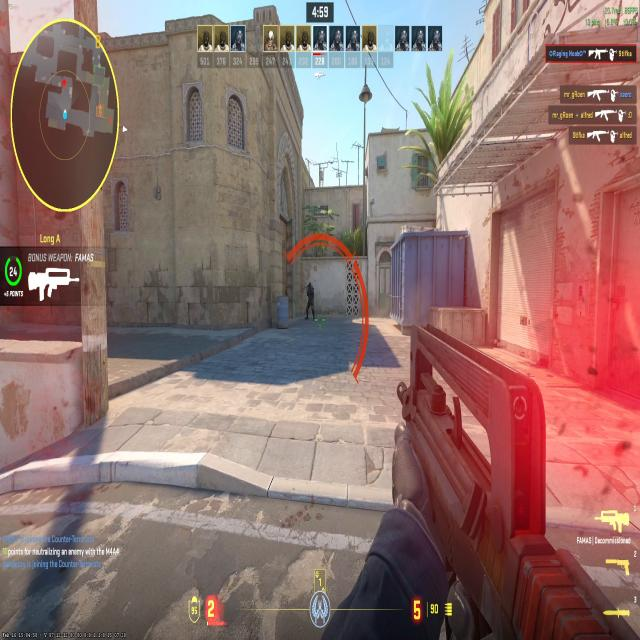player: (305, 278, 316, 325)
